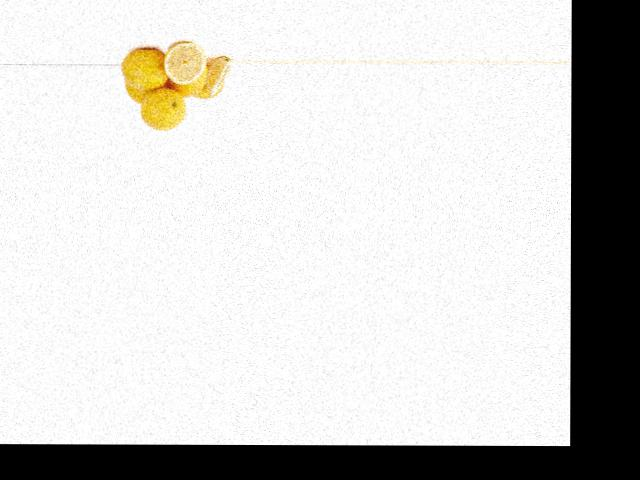lemon: (122, 45, 172, 96)
